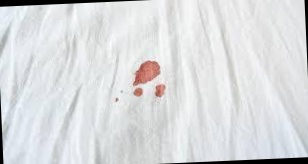blood: (131, 62, 164, 99)
